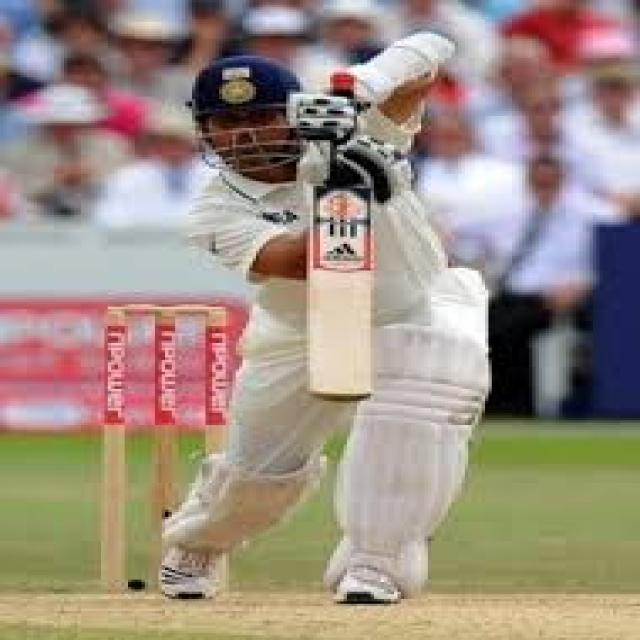toe: (290, 342, 391, 420)
